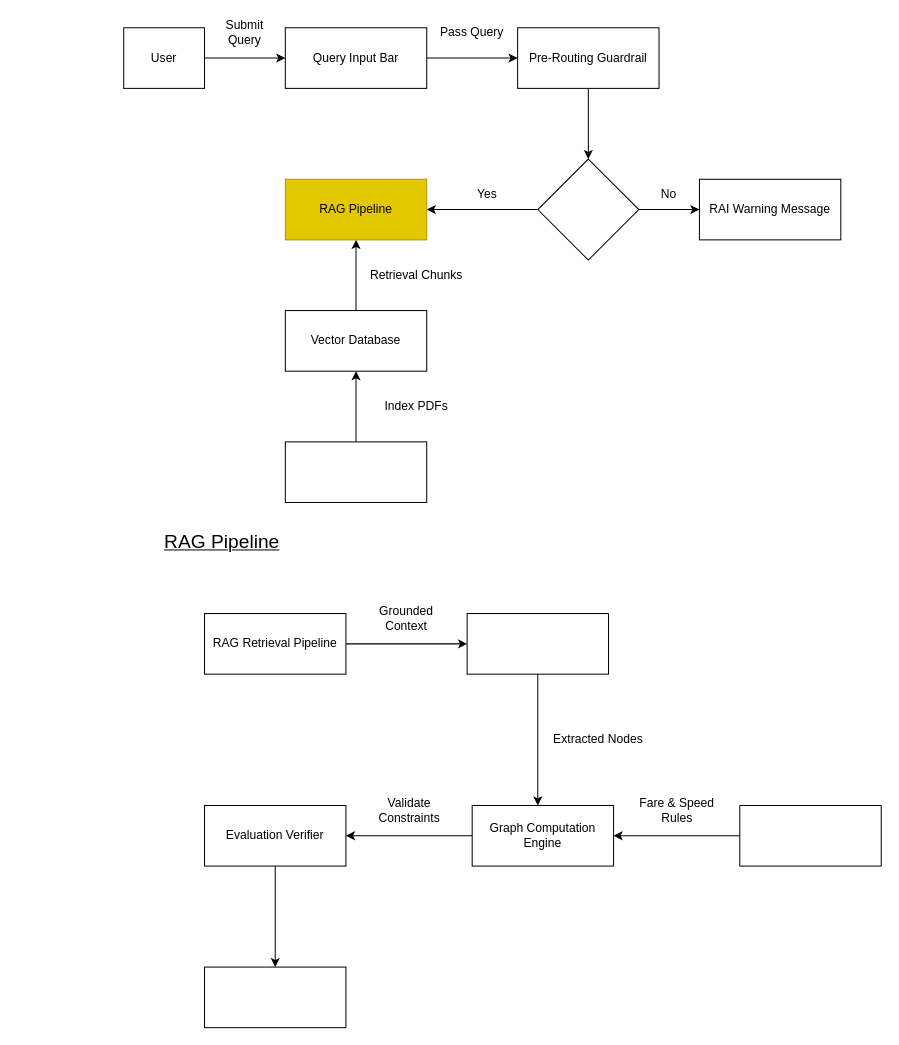
The diagram is 899 pixels wide and 1045 high, and some of its shapes have lost their labels. Here are the shapes that lost their labels. From the top down, the centre of each, then its label:
At [588,209]: "Malaysian Query".
At [355,471]: "Malaysia Tourism PDFs".
At [537,643]: "Base LLM".
At [810,835]: "Public Transit Data".
At [275,997]: "Interactive Flowchart Canvas".
